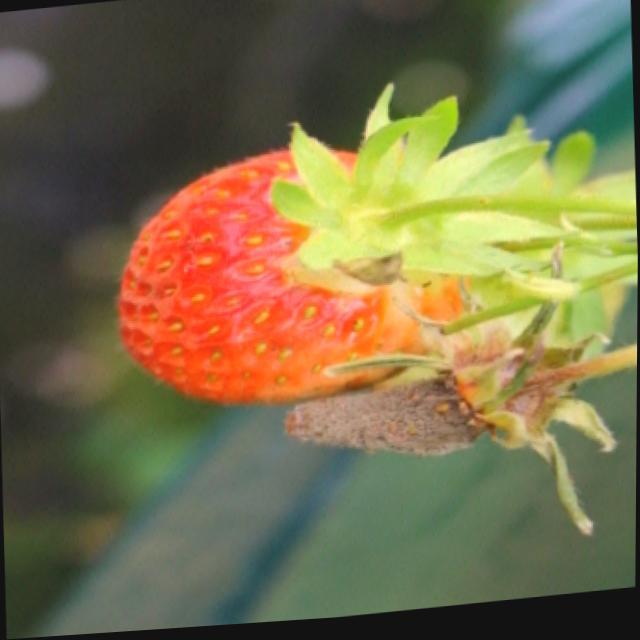Gray Mold: (285, 342, 587, 461)
